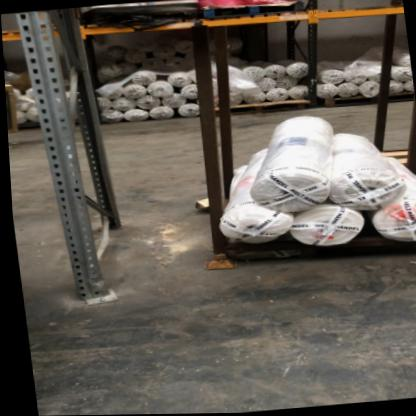vertical_damage: (64, 262, 118, 309)
